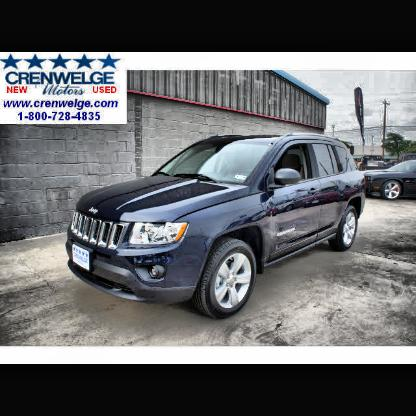Jeep Compass SUV 2012: (68, 135, 365, 322)
